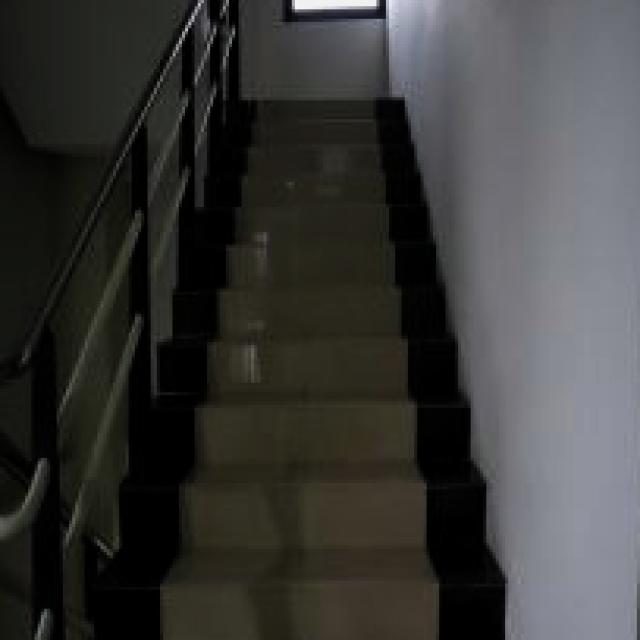upstair: (227, 98, 468, 640)
